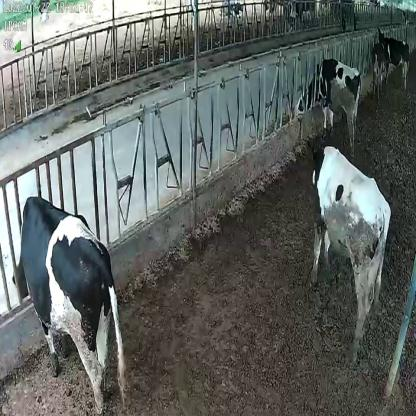cow: (11, 194, 128, 416), (304, 134, 392, 361), (294, 55, 362, 158)
